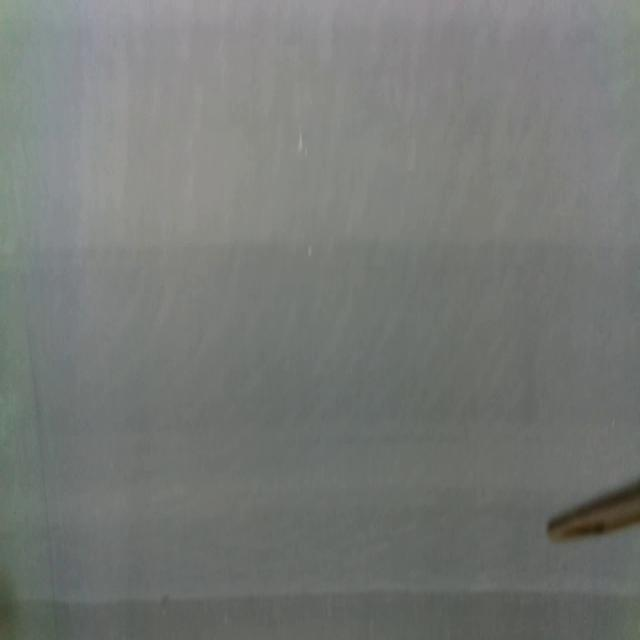color bleeding: (0, 230, 640, 442), (0, 578, 640, 640)
hole: (299, 130, 304, 154)
